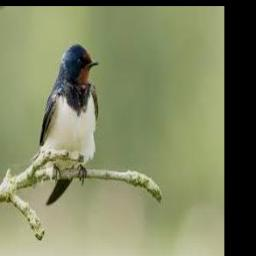Swallow: (40, 44, 100, 206)
